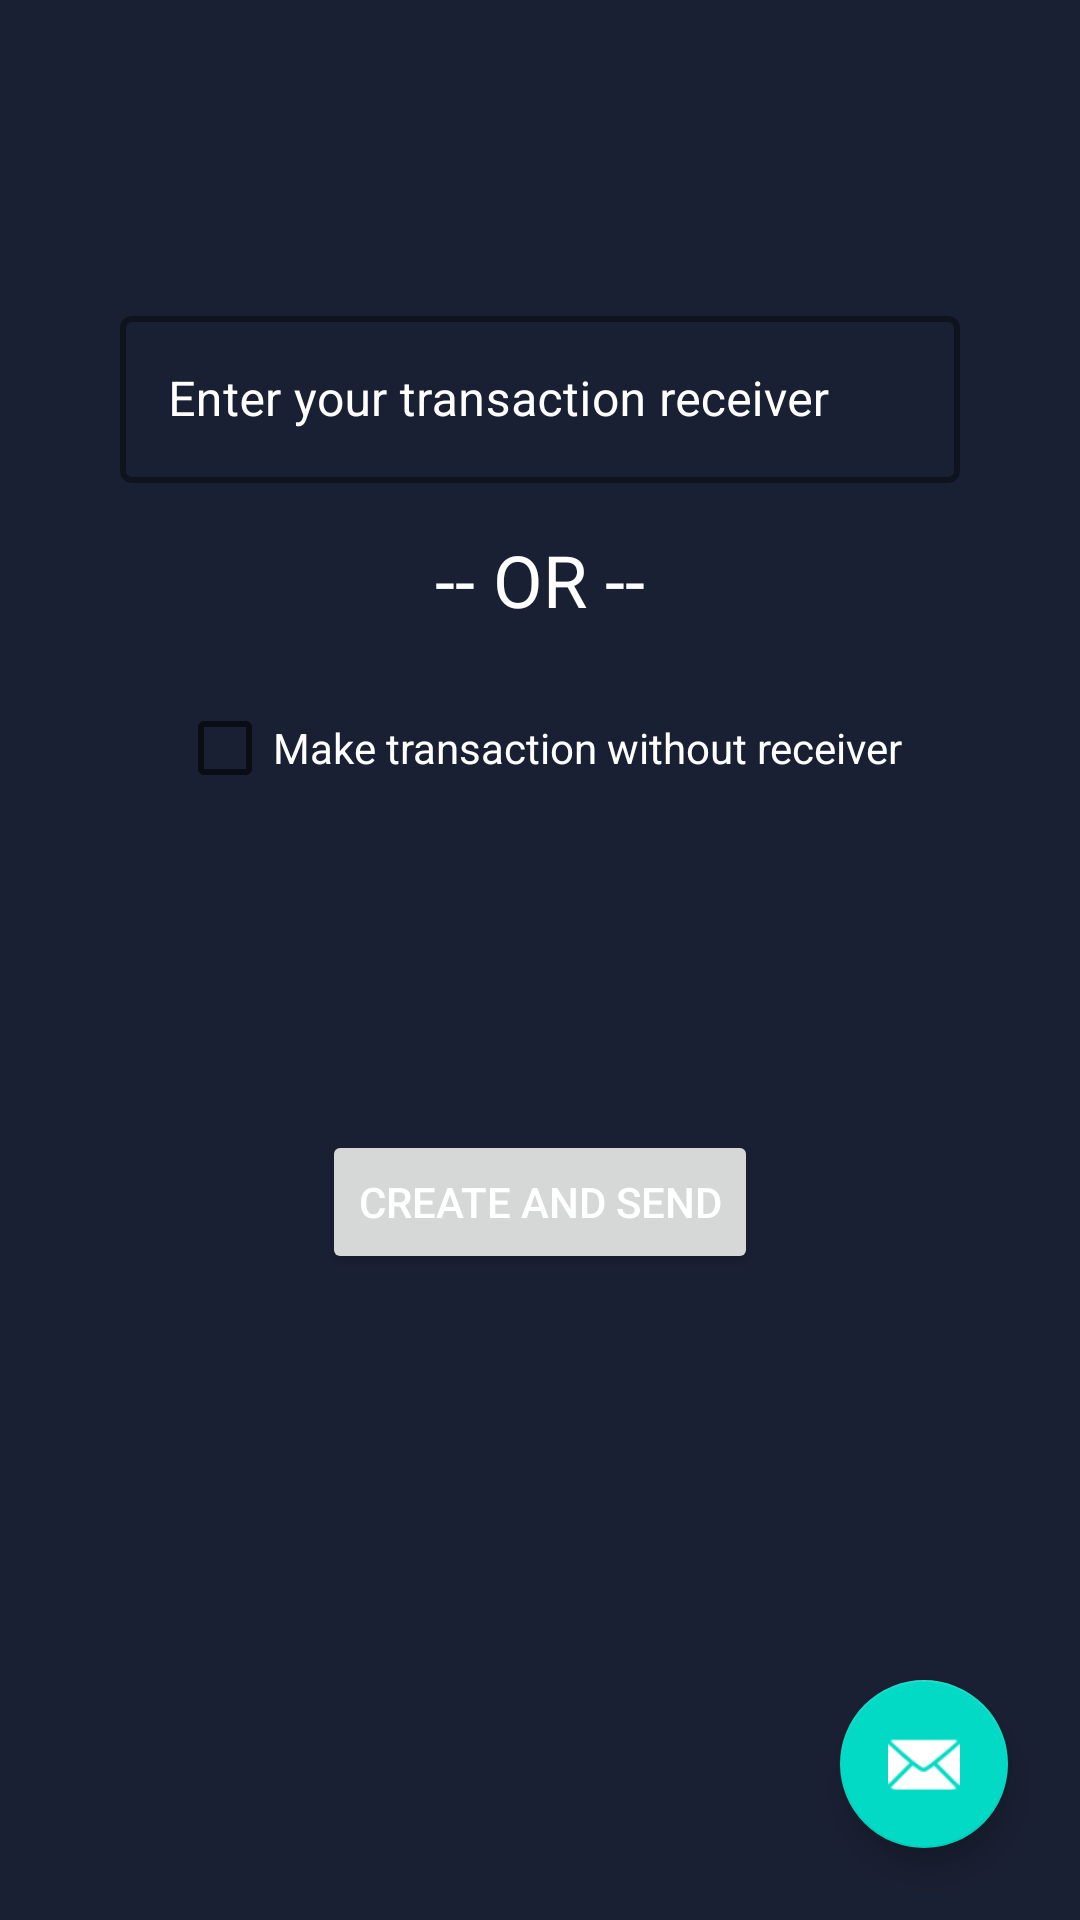

Named icons in this screenshot (1080w x 1920h) and their centers, [x,y]:
email: [924,1764]
